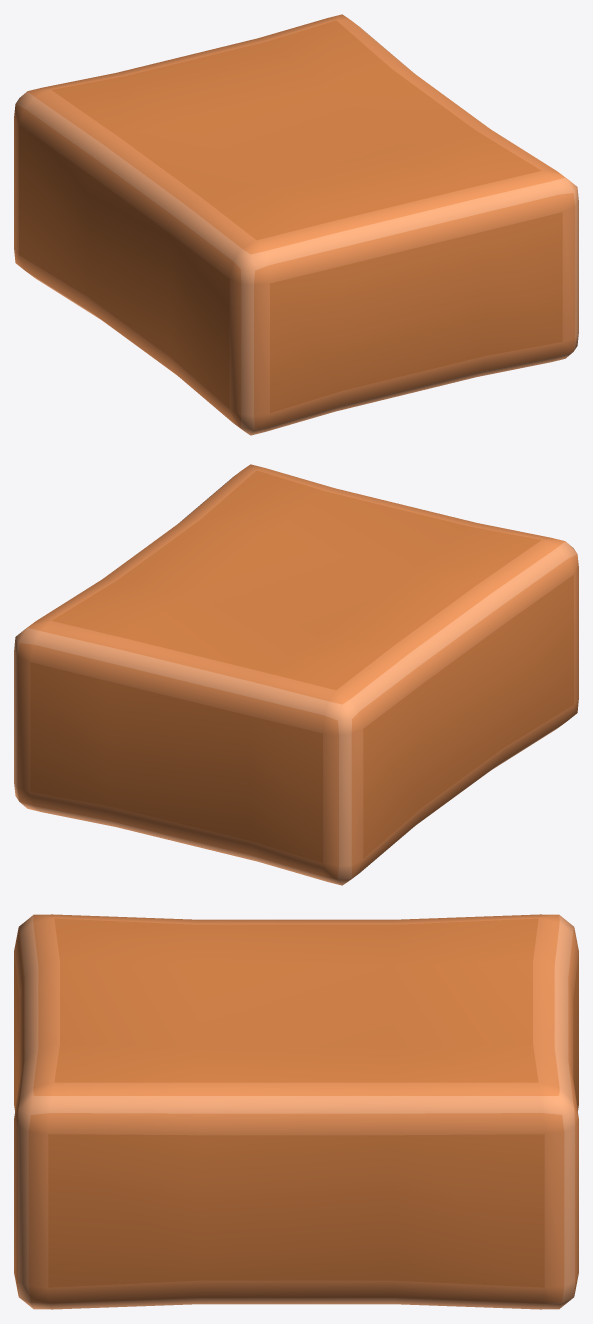
File: candy_caramel_001.glb
3 renders of one model, top to bottom at view 1: azimuth 30°, elevation 25°; view 2: azimuth 150°, elevation 25°; view 3: azimuth 270°, elevation 25°, orthographic. The views are drawn at different scales.
Visible parts, largest first — view 1: candy_caramel_001; view 2: candy_caramel_001; view 3: candy_caramel_001.
Part boxes in pixels (box(x1,y1,x2,y2)): candy_caramel_001: box(14, 14, 578, 435); candy_caramel_001: box(14, 464, 578, 885); candy_caramel_001: box(14, 914, 578, 1309).
Bounding box in the file's own units: 2.31 × 1.22 × 2.79.
1 material, 1 textured.
